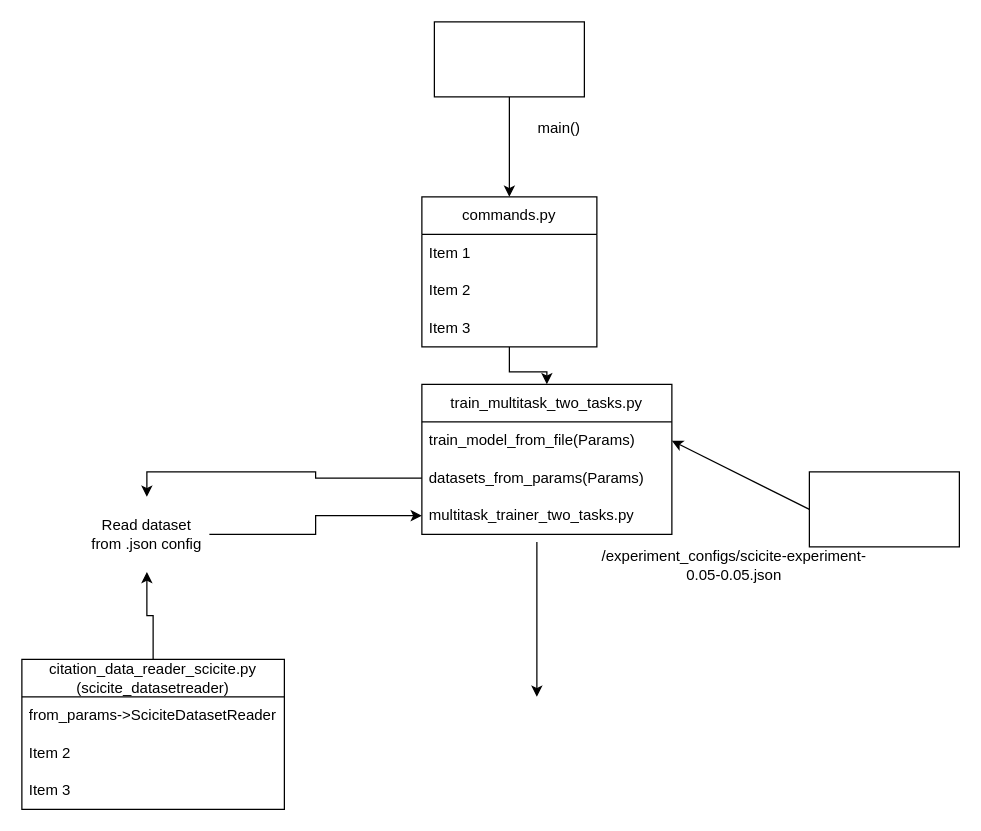
Some shapes in this 981 by 831 pixel diagram are drawn without their labels. The centre of each missing label's shape, as x and y in pixels:
parameter_filename: point (883, 509)
train_local.py: point (508, 59)
